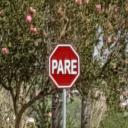Pare: (47, 44, 81, 88)
